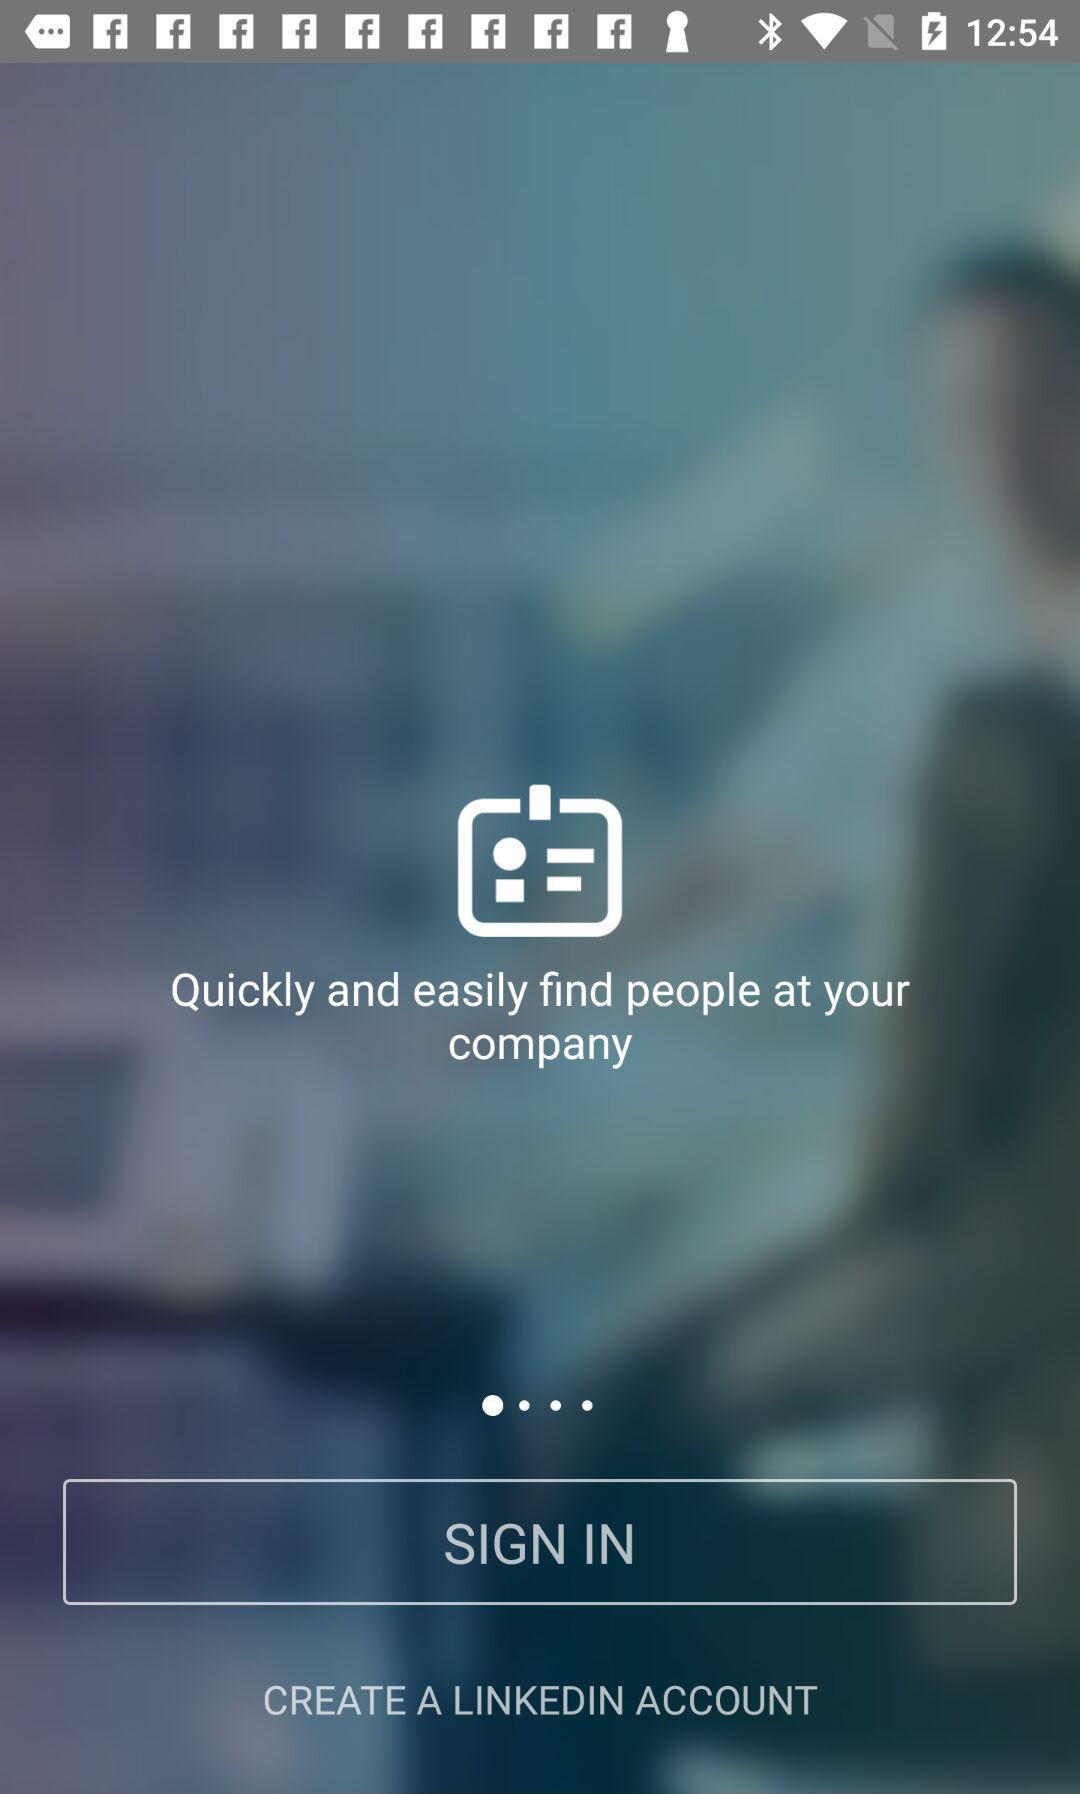BackgroundImage: (1, 64, 1080, 1794)
Image: (456, 782, 625, 941)
PageIndicator: (480, 1393, 594, 1419)
Text: (170, 967, 912, 1073), (264, 1685, 819, 1716)
TextButton: (63, 1477, 1019, 1606)
UpperTaskBar: (1, 1, 1080, 64)
